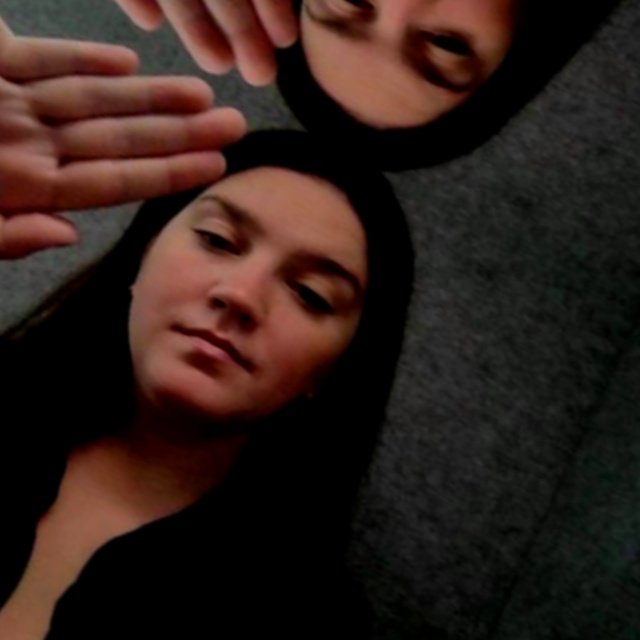Paper: (41, 0, 425, 107)
